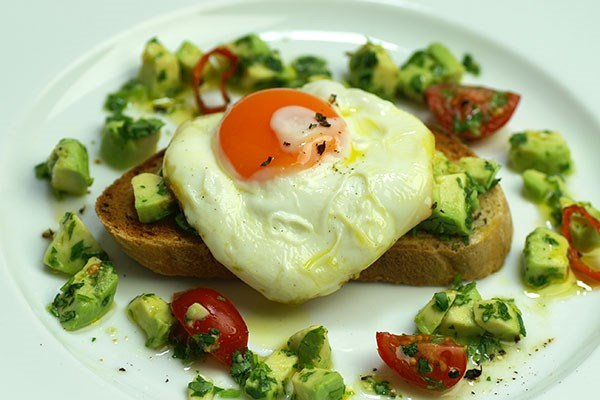fried egg: (193, 87, 396, 257)
slice of bread: (91, 156, 207, 298), (429, 128, 513, 286)
